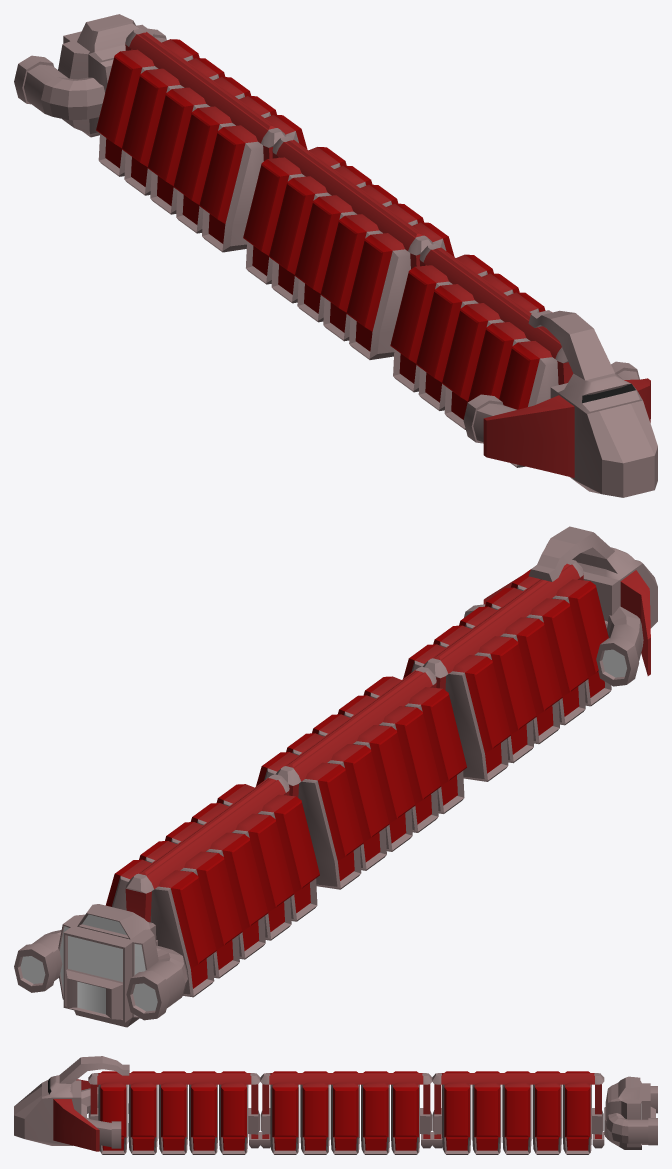
The model's file is Empire Freighter.FBX.
3 views of the same model, one above another, from view 1: azimuth 30°, elevation 25°; view 2: azimuth 150°, elevation 25°; view 3: azimuth 270°, elevation 25° (orthographic). The views are drawn at different scales.
Visible parts, largest first — view 1: Frigther; view 2: Frigther; view 3: Frigther.
Boxes of the visible parts, bbox=[...] form: Frigther: bbox=[14, 14, 657, 497]; Frigther: bbox=[14, 526, 657, 1027]; Frigther: bbox=[14, 1056, 657, 1154].
Bounding box in the file's own units: 165 × 137 × 931.
